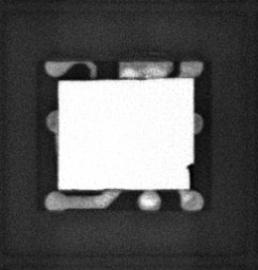DIE_BROKEN: (185, 162, 195, 191)
